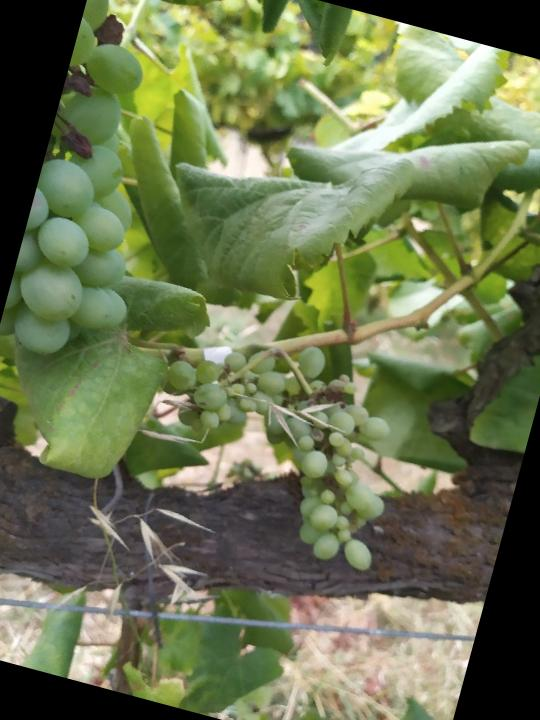grape: (130, 310, 429, 581)
